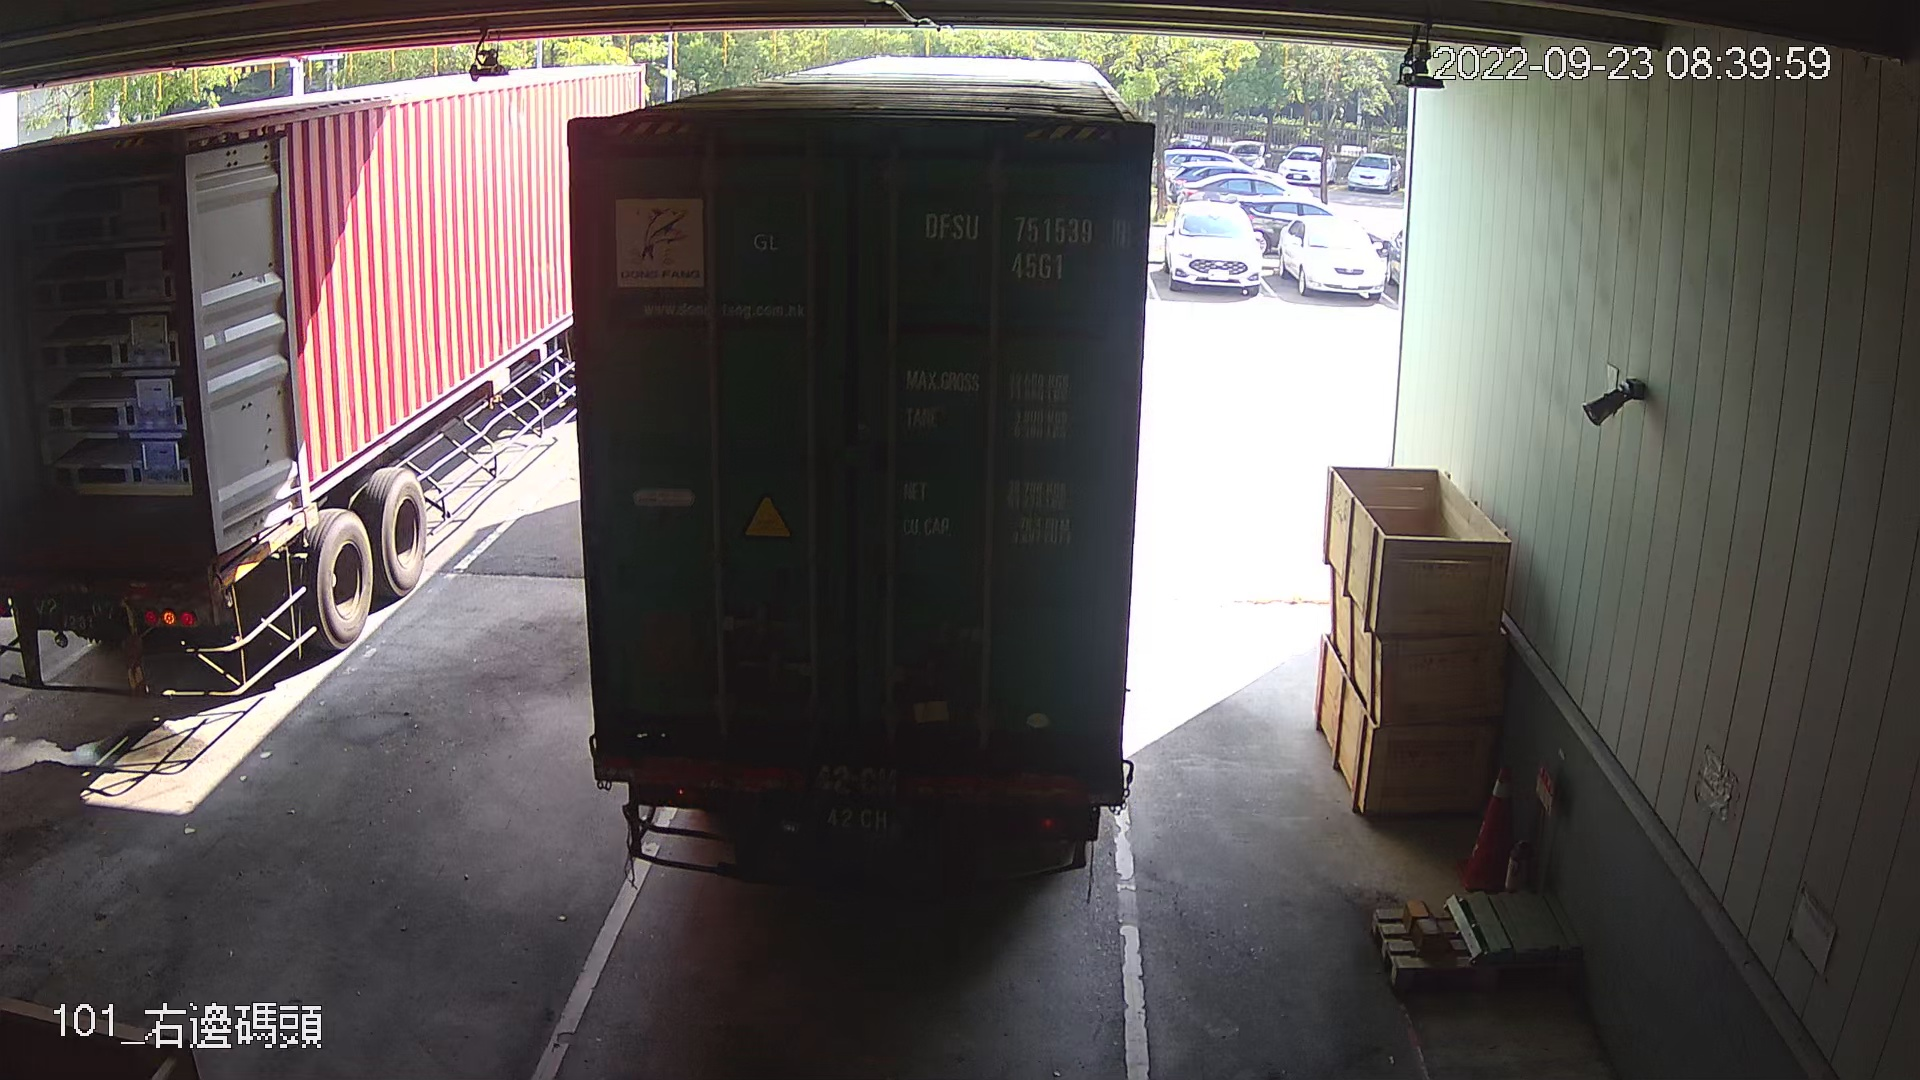container: (906, 198, 1137, 291)
